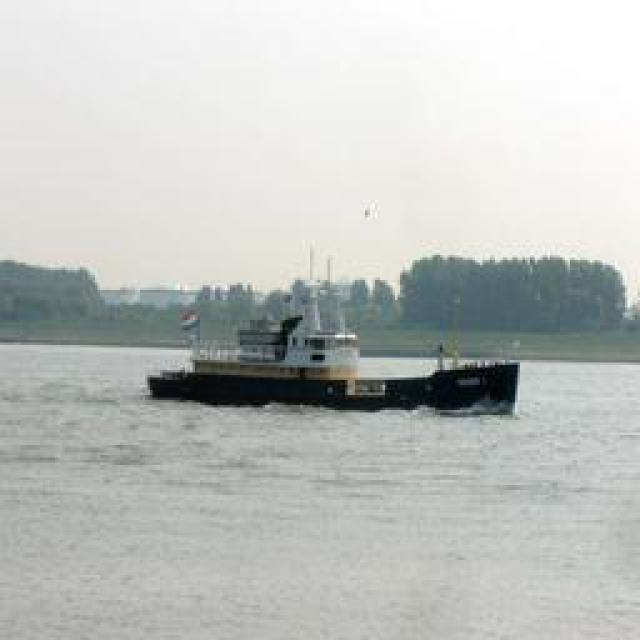Ship: (150, 265, 528, 415)
